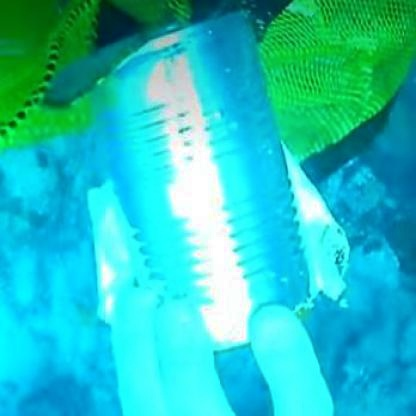can: (88, 18, 317, 344)
